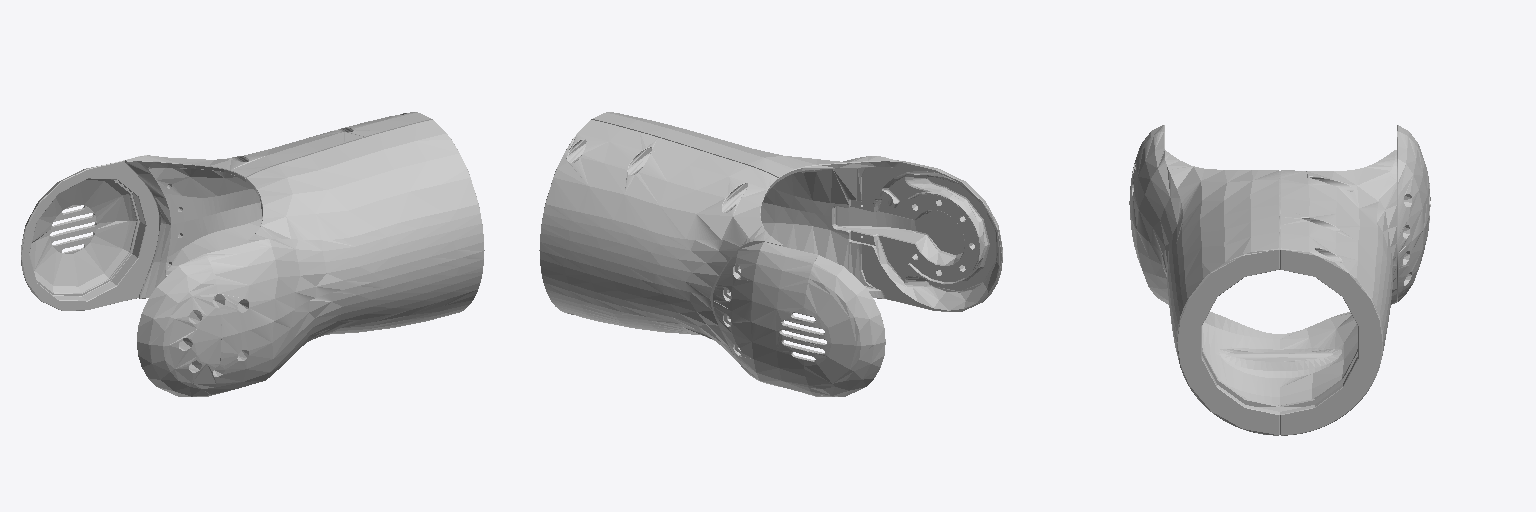
The model's file is arm_sho2_ex_1.obj.
The picture shows the model from 3 angles: view 1: azimuth 30°, elevation 25°; view 2: azimuth 150°, elevation 25°; view 3: azimuth 270°, elevation 25°; orthographic projection.
Size of the model in its own units: 0.2277 by 0.1151 by 0.1675.